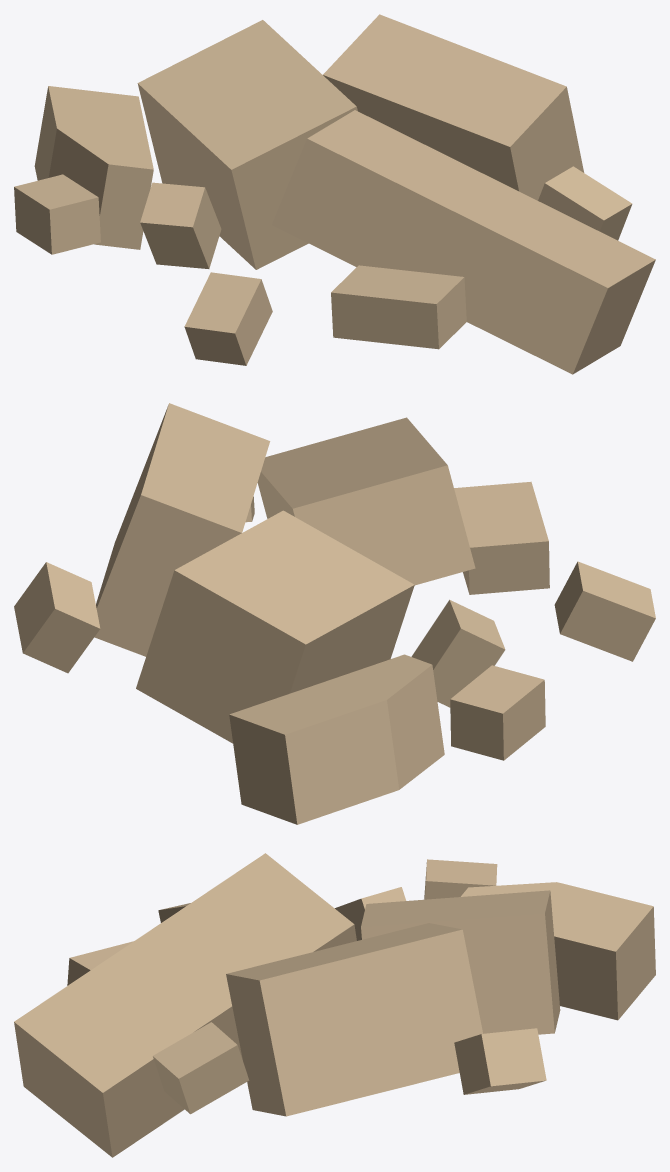
File: egypt_rubblemound.fbx
3 renders of one model, top to bottom at view 1: azimuth 30°, elevation 25°; view 2: azimuth 150°, elevation 25°; view 3: azimuth 270°, elevation 25°, orthographic. The views are drawn at different scales.
Visible parts, largest first — view 1: pCube79, pCube80, pCube81, pCube82, pCube88, pCube87, pCube84, pCube83, pCube85; view 2: pCube80, pCube82, pCube79, pCube81, pCube88, pCube83, pCube87, pCube86, pCube84; view 3: pCube79, pCube81, pCube80, pCube82, pCube85, pCube86, pCube83, pCube84, pCube88.
Part boxes in pixels (left/top/right/bottom): pCube79: left=272, top=110, right=655, bottom=374; pCube80: left=137, top=20, right=357, bottom=269; pCube81: left=323, top=14, right=584, bottom=200; pCube82: left=34, top=86, right=153, bottom=249; pCube88: left=331, top=265, right=466, bottom=349; pCube87: left=184, top=272, right=272, bottom=365; pCube84: left=140, top=182, right=221, bottom=268; pCube83: left=14, top=174, right=100, bottom=254; pCube85: left=538, top=166, right=632, bottom=240; pCube80: left=136, top=510, right=414, bottom=743; pCube82: left=229, top=654, right=444, bottom=824; pCube79: left=257, top=417, right=475, bottom=585; pCube81: left=94, top=403, right=270, bottom=656; pCube88: left=454, top=481, right=549, bottom=594; pCube83: left=450, top=665, right=545, bottom=760; pCube87: left=554, top=561, right=655, bottom=661; pCube86: left=14, top=562, right=100, bottom=673; pCube84: left=411, top=599, right=505, bottom=707; pCube79: left=14, top=853, right=356, bottom=1157; pCube81: left=226, top=923, right=482, bottom=1116; pCube80: left=361, top=890, right=560, bottom=1034; pCube82: left=461, top=882, right=655, bottom=1020; pCube85: left=153, top=1022, right=249, bottom=1114; pCube86: left=454, top=1028, right=546, bottom=1094; pCube83: left=424, top=859, right=497, bottom=899; pCube84: left=335, top=887, right=406, bottom=940; pCube88: left=67, top=941, right=133, bottom=985.
Bounding box in the file's own units: 1.42 × 0.6178 × 1.78.
